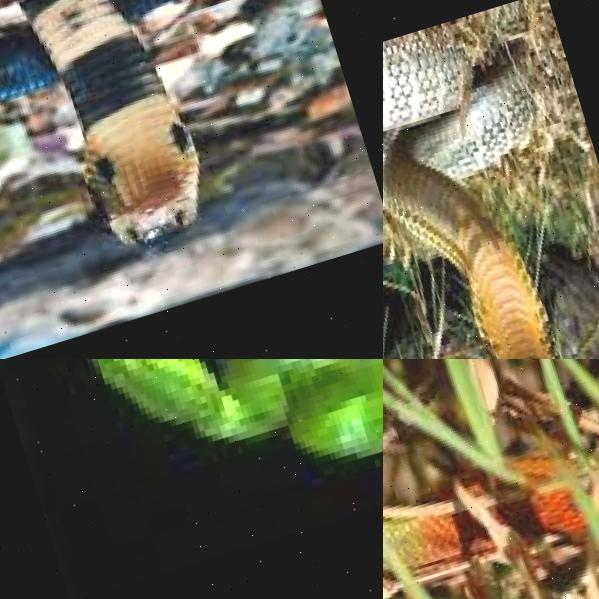snake: (0, 0, 383, 359), (383, 0, 599, 359), (18, 359, 383, 560), (383, 359, 599, 599)
